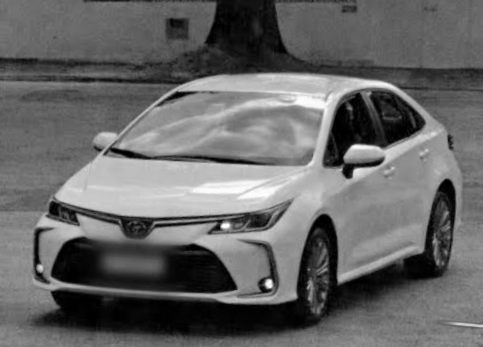car: (33, 72, 463, 327)
